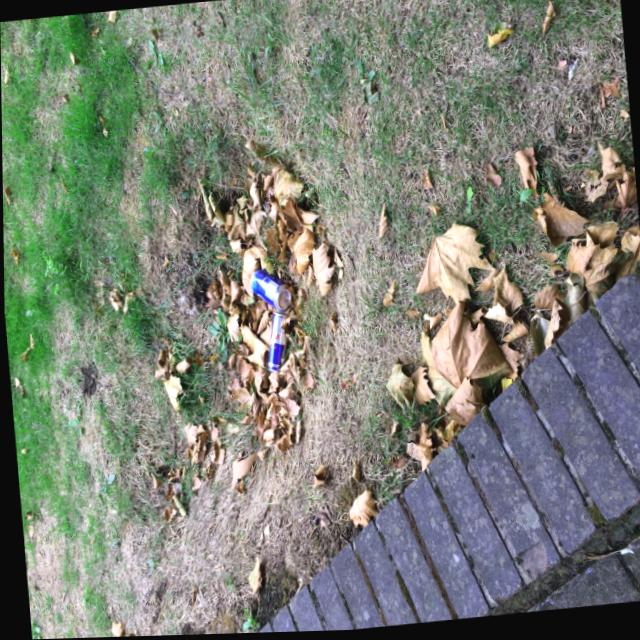Can-Metal: (246, 266, 293, 318), (259, 310, 293, 380)
